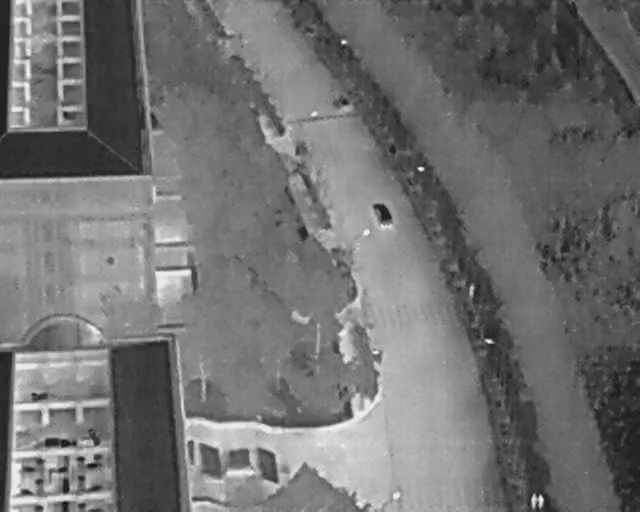Car: (370, 199, 393, 227)
Person: (530, 490, 538, 509), (468, 281, 475, 297), (538, 492, 544, 508)
